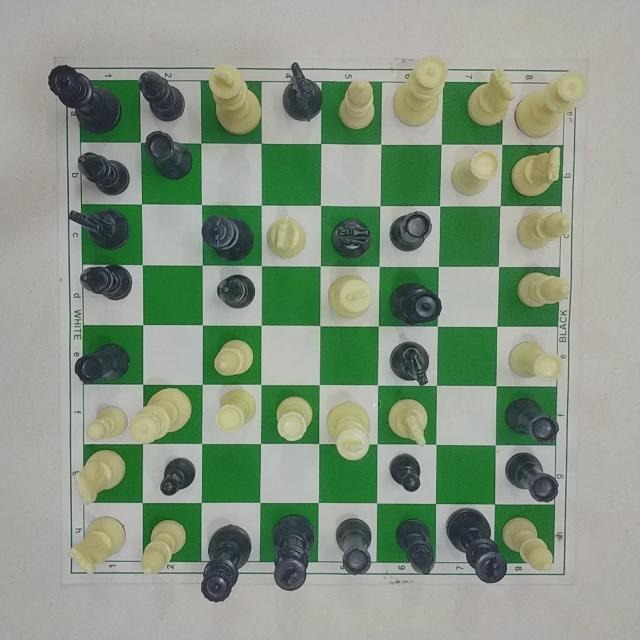black-bishop: (390, 513, 438, 580), (74, 150, 137, 196), (135, 67, 186, 122), (76, 258, 133, 307), (215, 272, 255, 314)
black-king: (442, 505, 510, 582), (270, 514, 316, 598), (197, 211, 255, 261)
black-knight: (64, 200, 135, 252), (281, 57, 325, 129), (385, 341, 434, 387), (328, 213, 374, 262)
black-pawn: (155, 455, 197, 497), (392, 449, 424, 492)
black-queen: (40, 64, 128, 134), (200, 518, 254, 605), (386, 279, 444, 327)
black-rook: (69, 335, 135, 391), (503, 450, 562, 504), (143, 125, 198, 182), (328, 515, 376, 578), (503, 394, 562, 440), (386, 206, 434, 255)
white-bishop: (134, 513, 186, 582), (500, 512, 556, 576), (510, 268, 571, 313), (515, 204, 571, 252), (336, 75, 377, 136), (211, 339, 257, 382)
white-king: (203, 63, 269, 139), (326, 396, 376, 465), (325, 271, 375, 326)
white-knight: (66, 512, 128, 578), (67, 447, 131, 507), (465, 66, 514, 130), (510, 143, 564, 199), (383, 398, 431, 448), (263, 212, 310, 262)
white-pawn: (83, 403, 128, 445)
white-queen: (514, 67, 588, 141), (390, 50, 447, 129), (128, 380, 195, 445)
white-rook: (506, 331, 564, 388), (447, 148, 499, 202), (271, 390, 319, 446), (214, 387, 258, 438)
